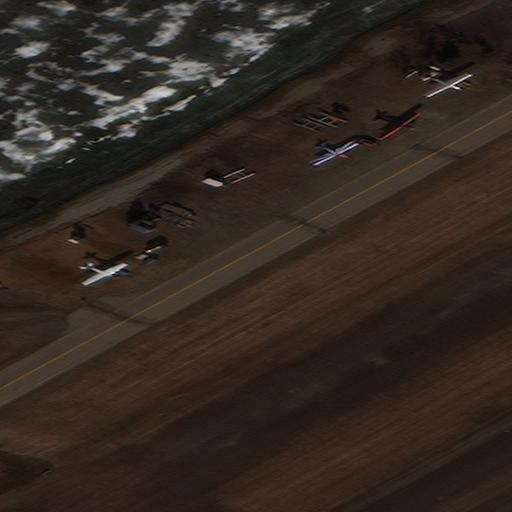Small Civil Transport: (376, 112, 422, 140), (424, 74, 474, 98), (316, 141, 362, 167), (85, 264, 128, 286)
